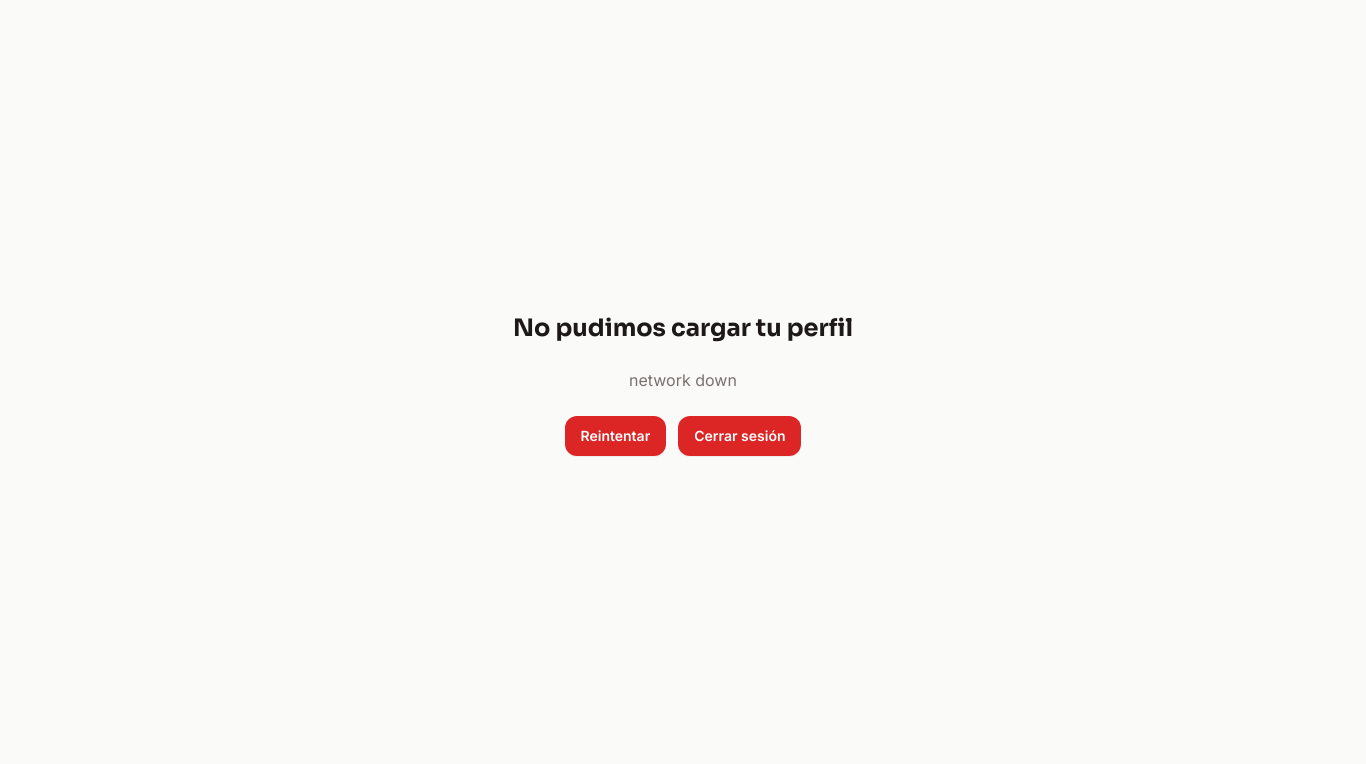
Test: StudentDashboard — carga del perfil › el reintento vuelve a pedir el perfil y monta el panel
Check: the heading "No pudimos cargar tu perfil" is shown, box x1=513 y1=312 x2=853 y2=344
Click the button "Reintentar" at (615, 436), box x1=564 y1=416 x2=666 y2=456
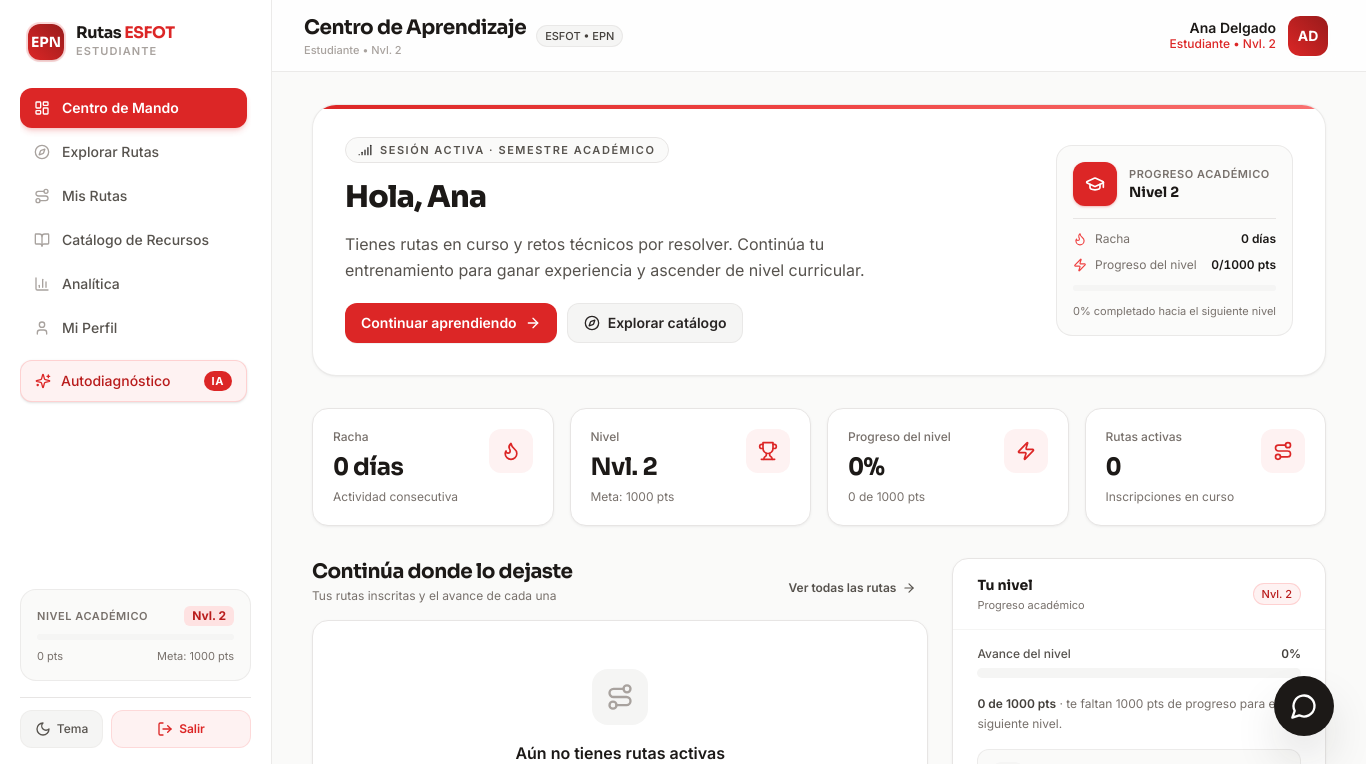
Check: the text "Ana Delgado" is shown, box x1=1190 y1=19 x2=1276 y2=36
